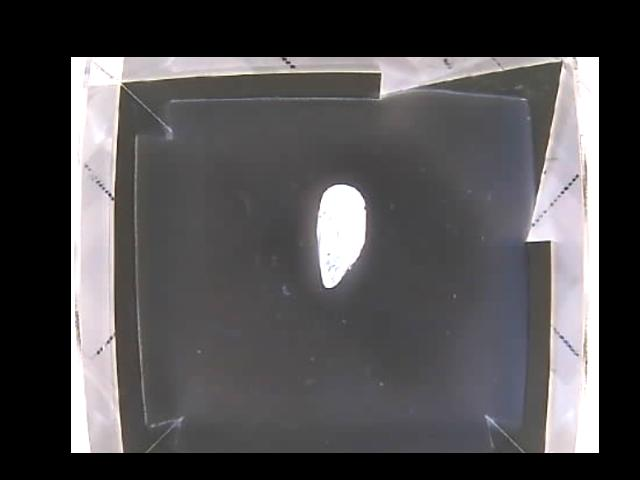Shell: (318, 184, 367, 288)
